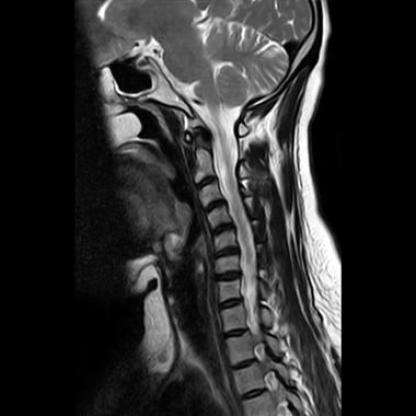Disc Bulgerotation: (218, 268, 245, 284), (209, 222, 237, 237), (214, 245, 241, 259)
